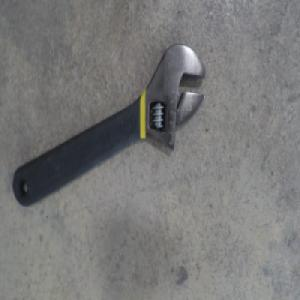AdjustableWrench: (11, 42, 205, 207)
